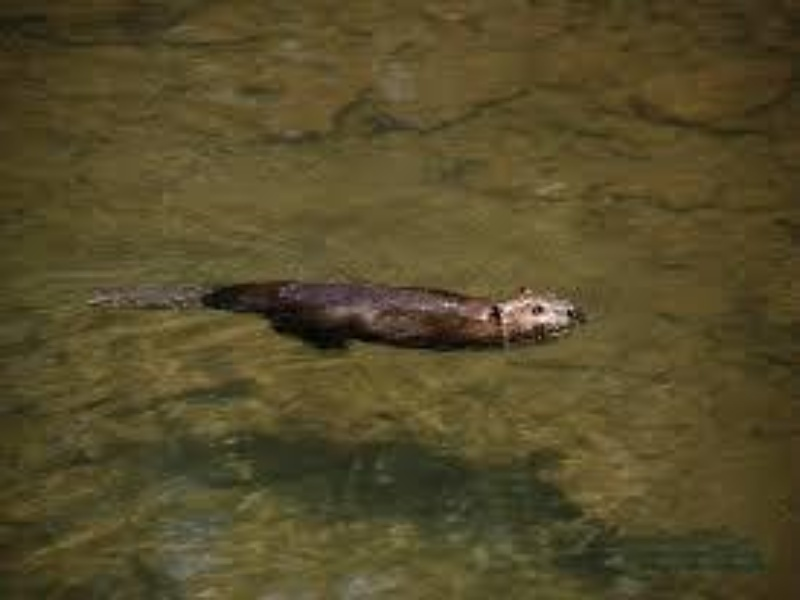minkish: (90, 274, 590, 354)
